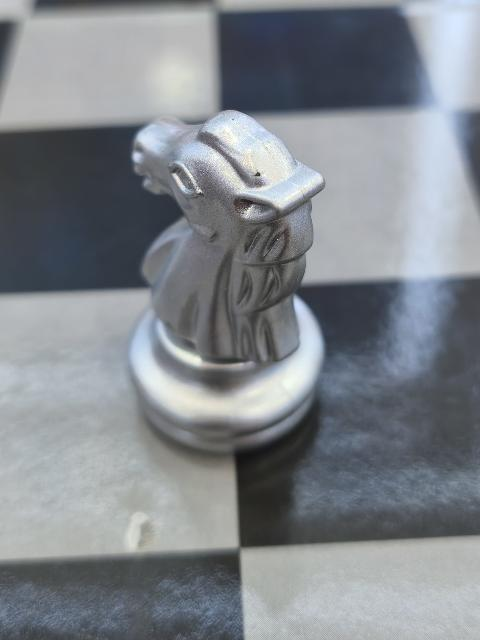white_knight: (131, 108, 327, 448)
